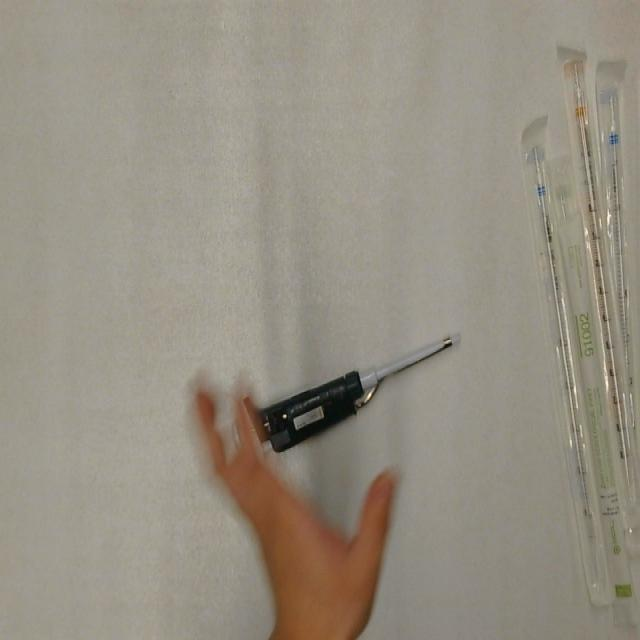Serelogical Pipet 10 mL: (558, 51, 640, 560)
Serelogical Pipet 2 mL: (547, 148, 640, 634)
Serelogical Pipet 5 mL: (520, 115, 614, 610), (595, 58, 640, 436)
Single Channel Pipettor: (229, 324, 466, 461)
